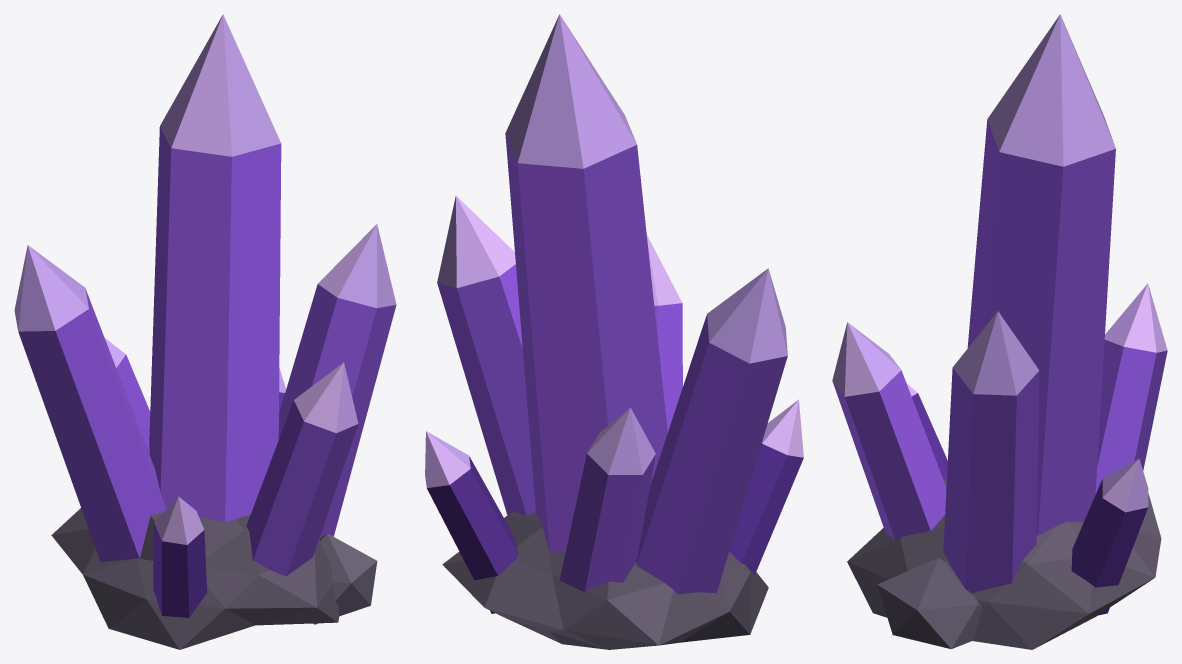
The model's file is aether_crystal.glb.
3 views of the same model, side by side, from view 1: azimuth 30°, elevation 25°; view 2: azimuth 150°, elevation 25°; view 3: azimuth 270°, elevation 25° (orthographic). The views are drawn at different scales.
Visible parts, largest first — view 1: aether_crystal; view 2: aether_crystal; view 3: aether_crystal.
Boxes of the visible parts, x1,y1,x2,y2 form: aether_crystal: (14, 14, 396, 649); aether_crystal: (425, 14, 803, 649); aether_crystal: (832, 14, 1167, 649).
Size of the model in its own units: 1.68 by 2.64 by 1.35.
1 material, 1 textured.
